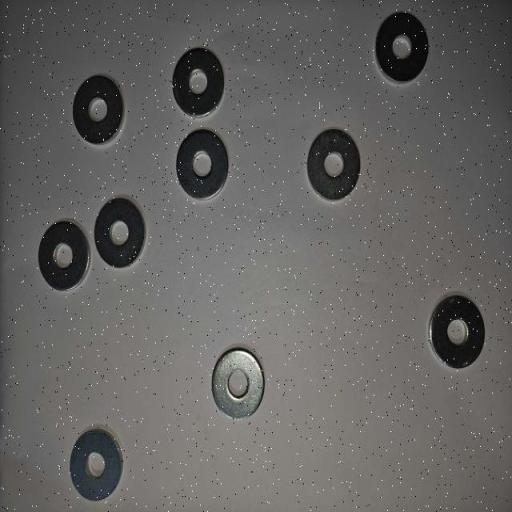washer: (428, 293, 486, 370), (306, 128, 362, 203), (374, 10, 430, 85), (69, 427, 123, 502), (171, 47, 226, 119), (176, 128, 230, 201), (93, 196, 147, 269), (211, 347, 265, 420), (72, 74, 126, 146), (38, 218, 91, 291)
